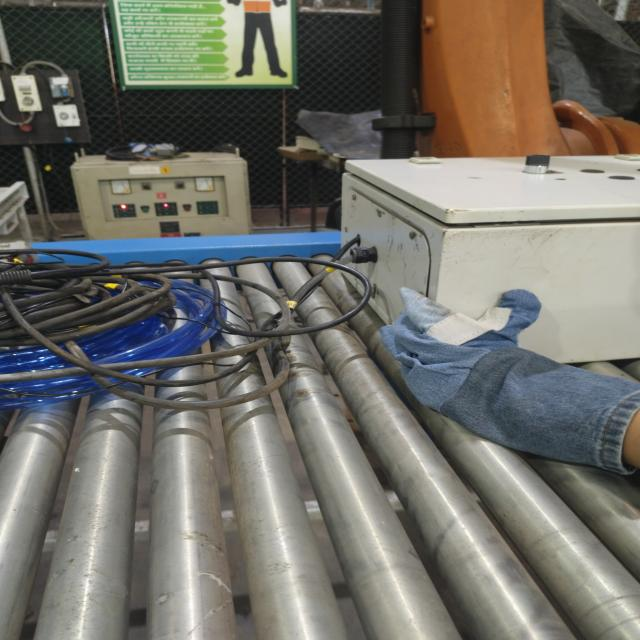Gloves-Detection: (388, 289, 636, 463)
